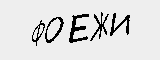Е: (65, 12, 90, 43)
Ж: (90, 10, 110, 39)
И: (109, 11, 129, 39)
О: (44, 15, 65, 43)
Ф: (28, 17, 44, 46)
